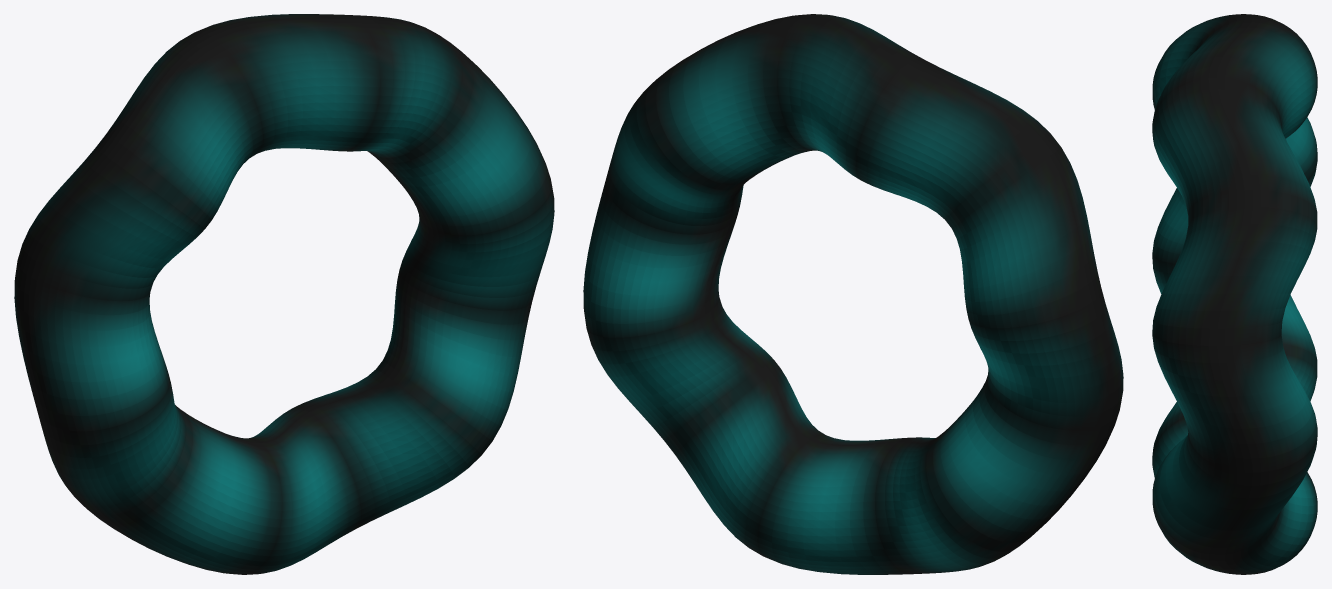
The model's file is step_4.glb.
3 renders of one model, left to right at view 1: azimuth 30°, elevation 25°; view 2: azimuth 150°, elevation 25°; view 3: azimuth 270°, elevation 25°, orthographic. The views are drawn at different scales.
Parts seen in each view (by area): view 1: world; view 2: world; view 3: world.
Part boxes in pixels (left/top/right/bottom): world: left=14, top=14, right=554, bottom=574; world: left=583, top=14, right=1123, bottom=574; world: left=1152, top=14, right=1317, bottom=574.
Size of the model in its own units: 26 by 26 by 7.67.
